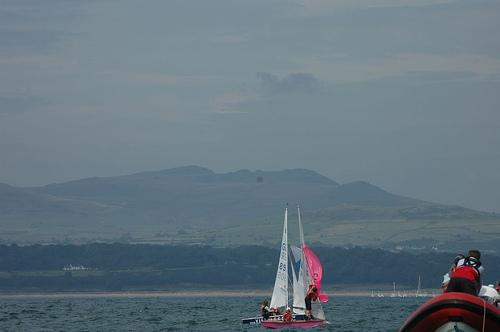Ship: (260, 206, 329, 327)
